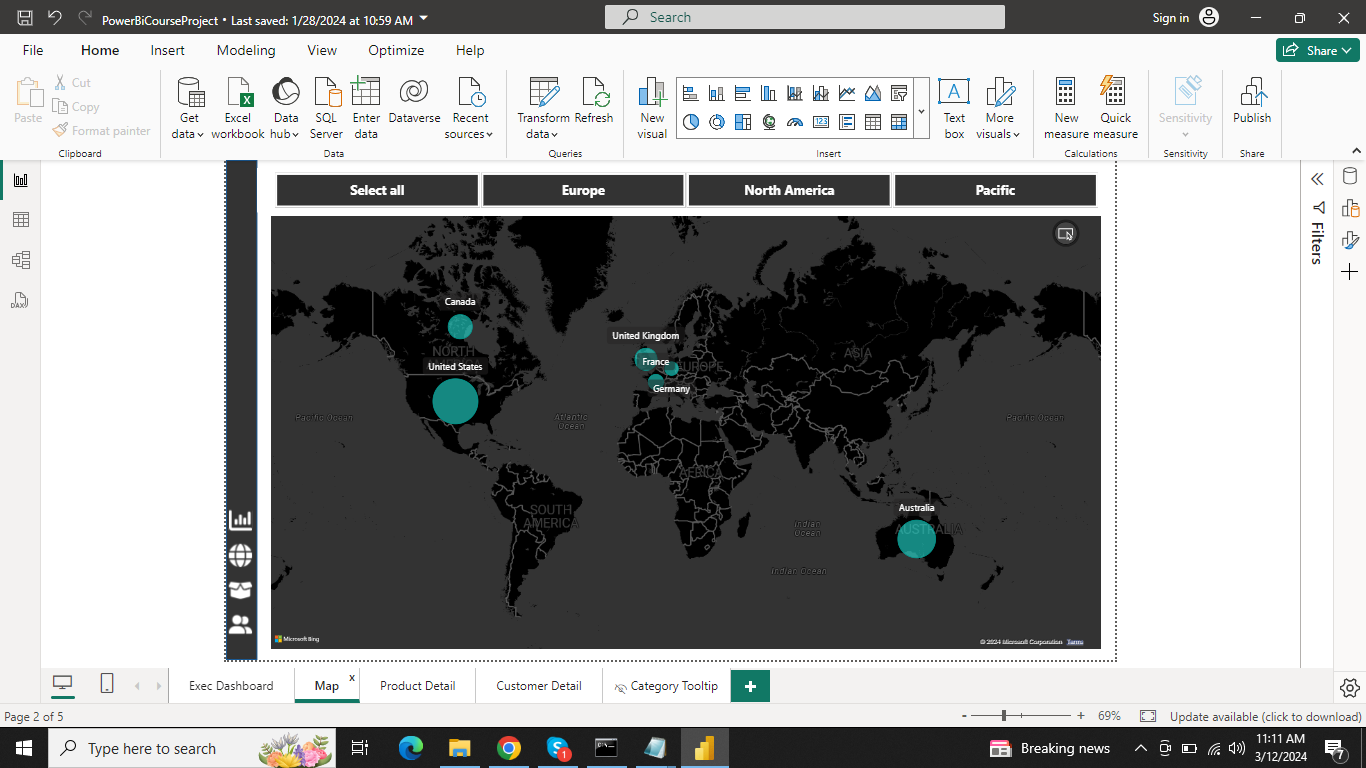

The page's visual inventory and layout, read from the dashboard file:
{"tool":"powerbi","page":{"name":"Map","canvas":[1280,720],"ordinal":1},"visuals":[{"type":"shape","box":[0,0,45,720],"z":0},{"type":"actionButton","box":[0.6,497.5,45.2,41.6],"z":0,"group":"g1"},{"type":"map","fields":{"Category":["Territory Lookup.Country"],"Size":["Measure Table.Total Orders"]},"box":[59.9,75.8,1204.1,633.2],"z":1000},{"type":"actionButton","box":[0.6,547.6,45.2,41.6],"z":1000,"group":"g1"},{"type":"slicer","fields":{"Values":["Territory Lookup.Continent"]},"box":[45.2,12.2,1234.6,63.6],"z":2000},{"type":"actionButton","box":[0.6,597.7,45.2,41.6],"z":2000,"group":"g1"},{"type":"group","id":"g1","title":"Navigation Buttons","box":[0.6,497.5,45.2,191.9],"z":3000},{"type":"actionButton","box":[0.6,647.9,45.2,41.6],"z":3000,"group":"g1"}]}

Visuals, with their boxes on the page's 1280x720 design canvas (x1, y1, x2, y2). These are canvas units, not pixel positions in the 1366x768 screenshot, which may show the page scaled, cropped or inside an application window:
shape: pyautogui.locateOnScreen(0, 0, 45, 720)
actionButton: pyautogui.locateOnScreen(1, 498, 46, 539)
map - Territory Lookup.Country x Measure Table.Total Orders: pyautogui.locateOnScreen(60, 76, 1264, 709)
actionButton: pyautogui.locateOnScreen(1, 548, 46, 589)
slicer - Territory Lookup.Continent: pyautogui.locateOnScreen(45, 12, 1280, 76)
actionButton: pyautogui.locateOnScreen(1, 598, 46, 639)
"Navigation Buttons" group: pyautogui.locateOnScreen(1, 498, 46, 689)
actionButton: pyautogui.locateOnScreen(1, 648, 46, 690)
